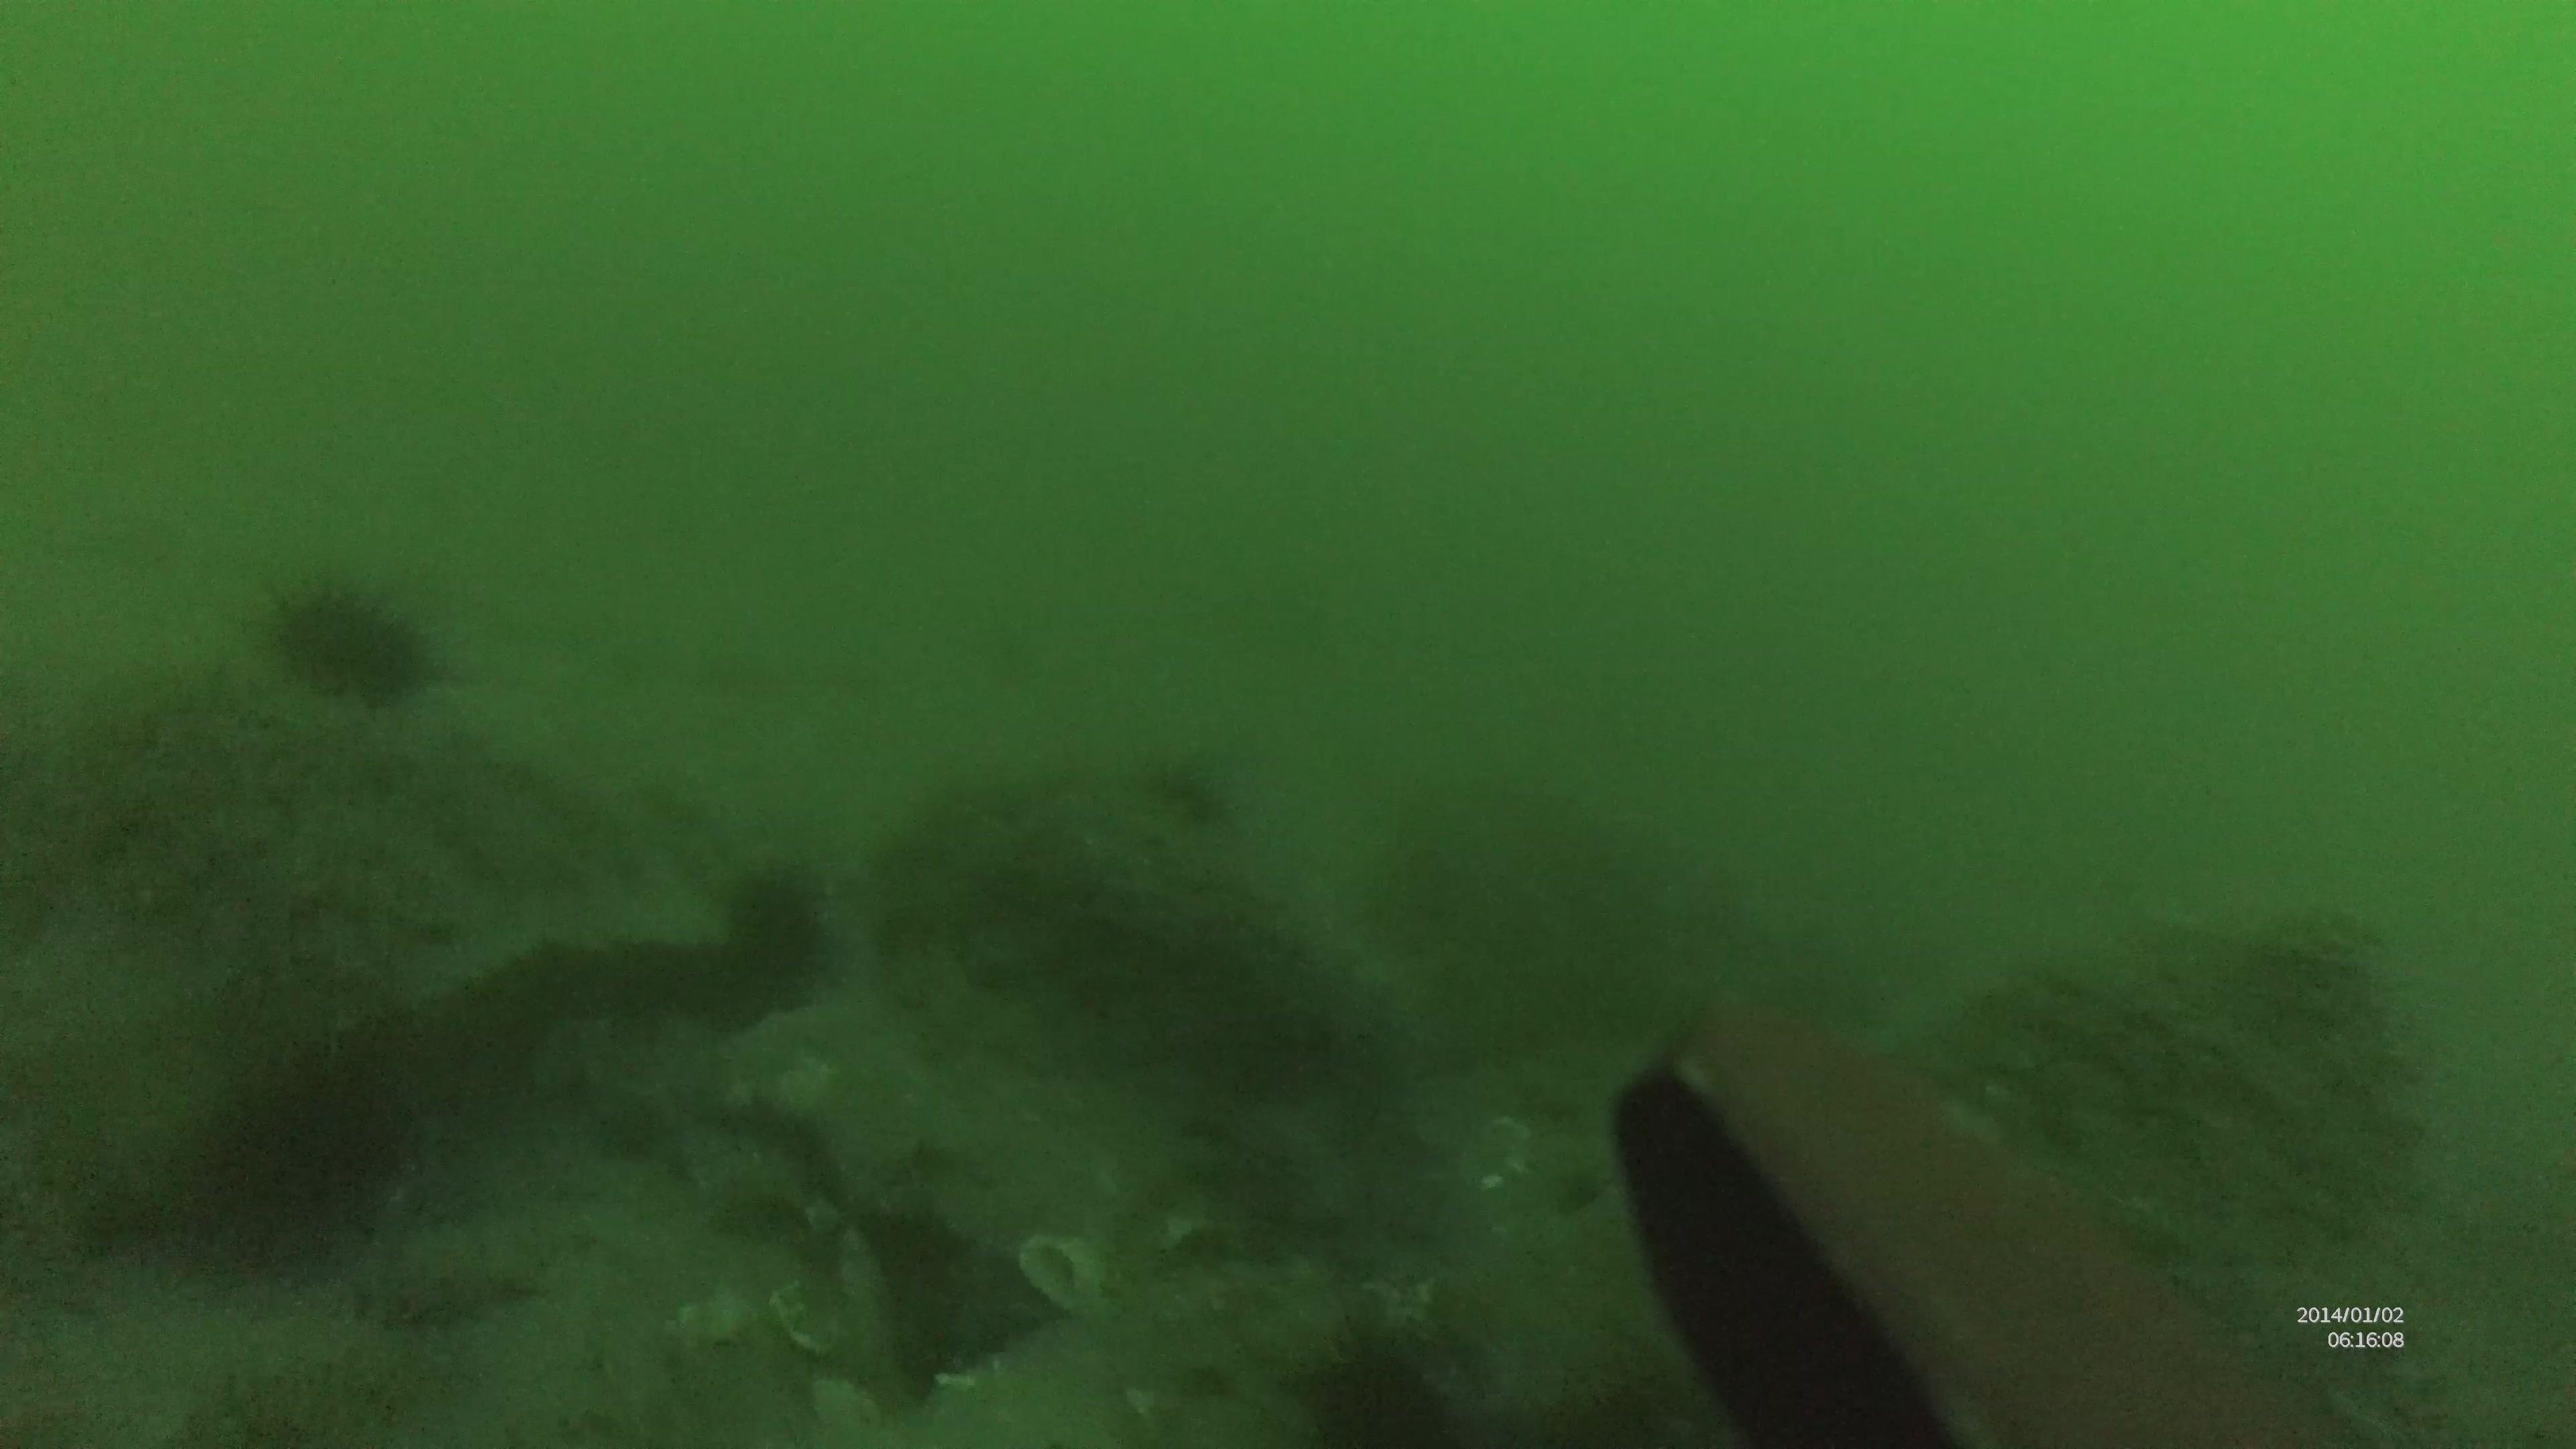echinus: (262, 570, 446, 697)
